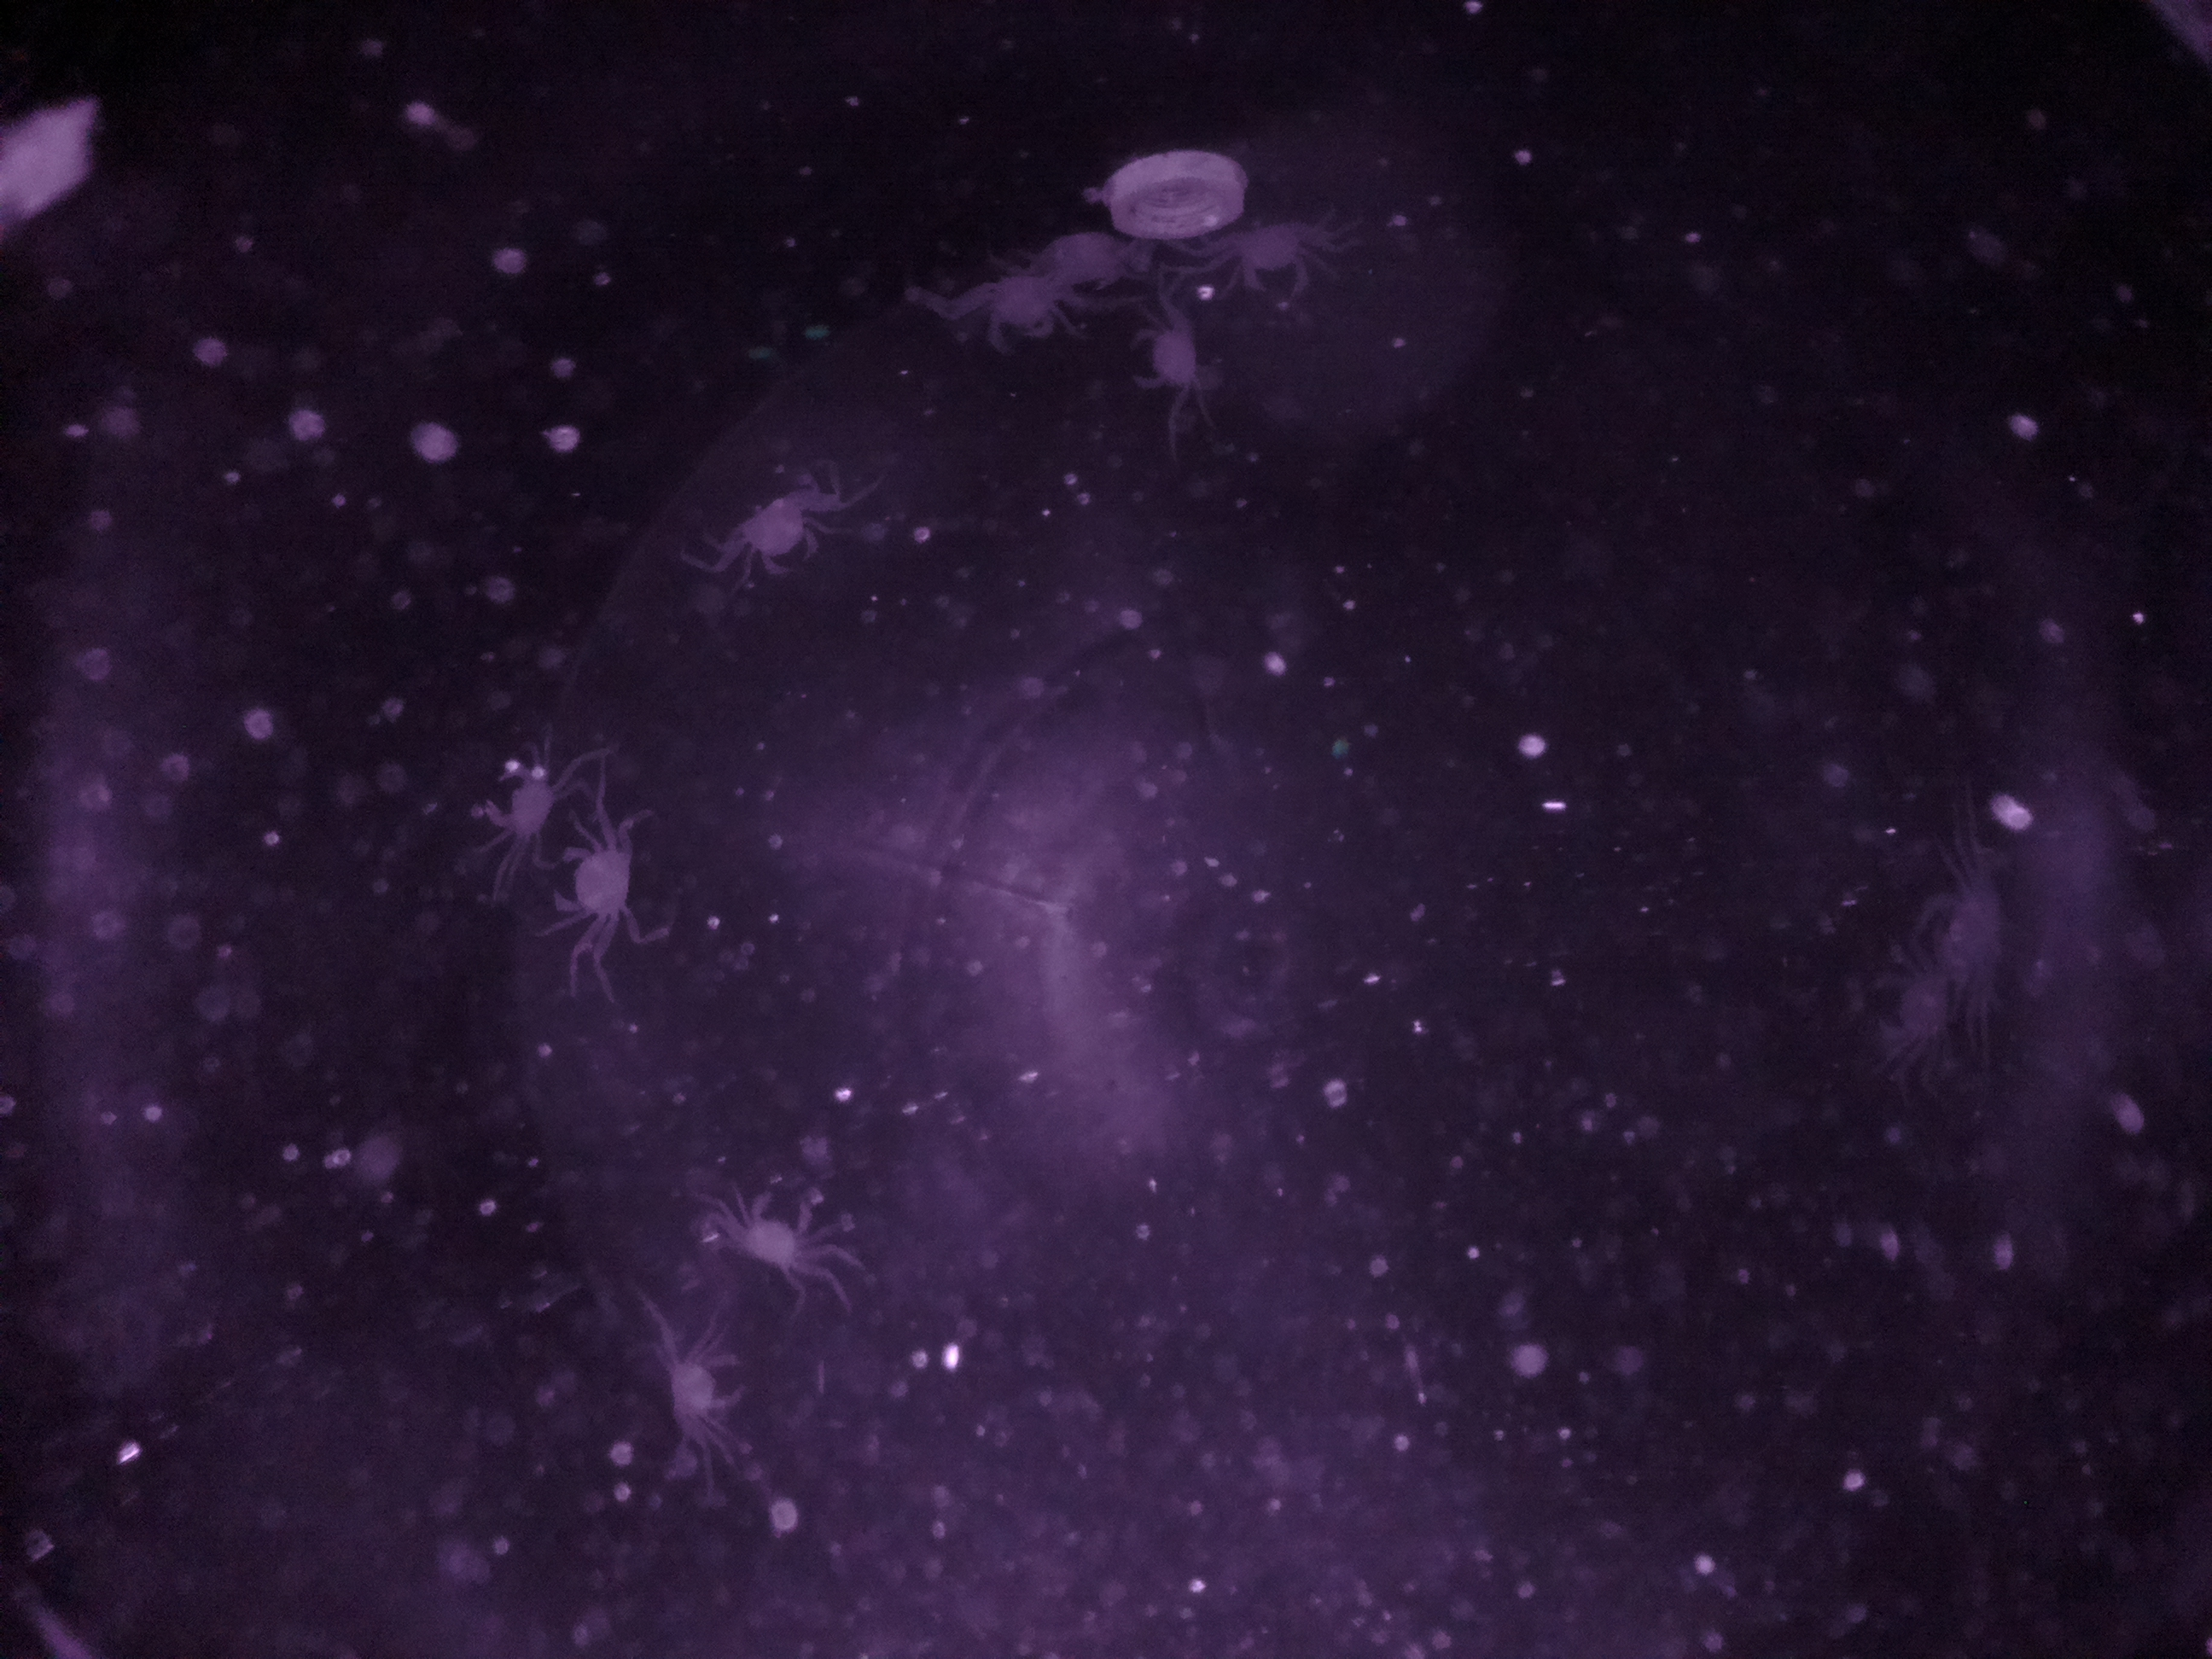Crab: (540, 817, 664, 931), (725, 474, 838, 591), (1224, 192, 1331, 308), (637, 1349, 775, 1432), (1106, 305, 1224, 399), (732, 1168, 824, 1284)
